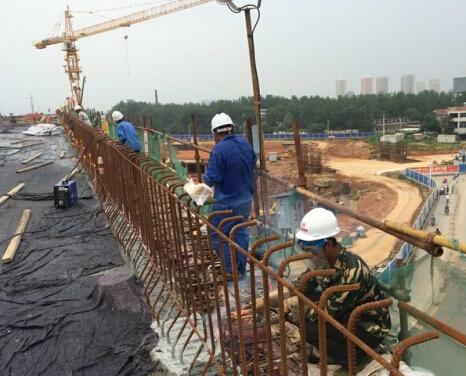hard-hat: (294, 206, 340, 241), (211, 112, 234, 133), (111, 110, 123, 121)
person: (243, 206, 393, 368), (200, 111, 257, 282), (110, 109, 141, 153)
ppe-suit: (199, 134, 257, 276)
